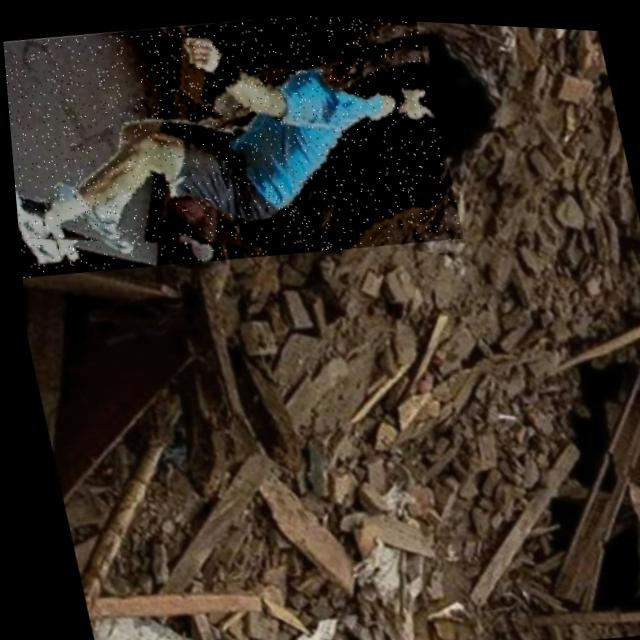Person in Rubble: (0, 0, 463, 296)
